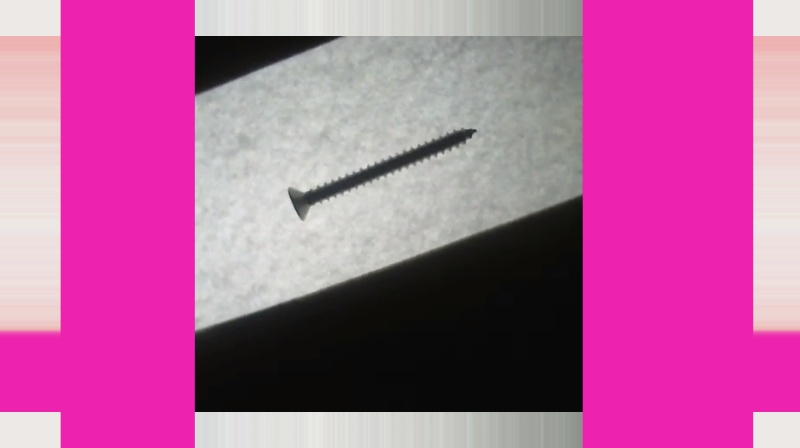S002: (286, 124, 480, 222)
